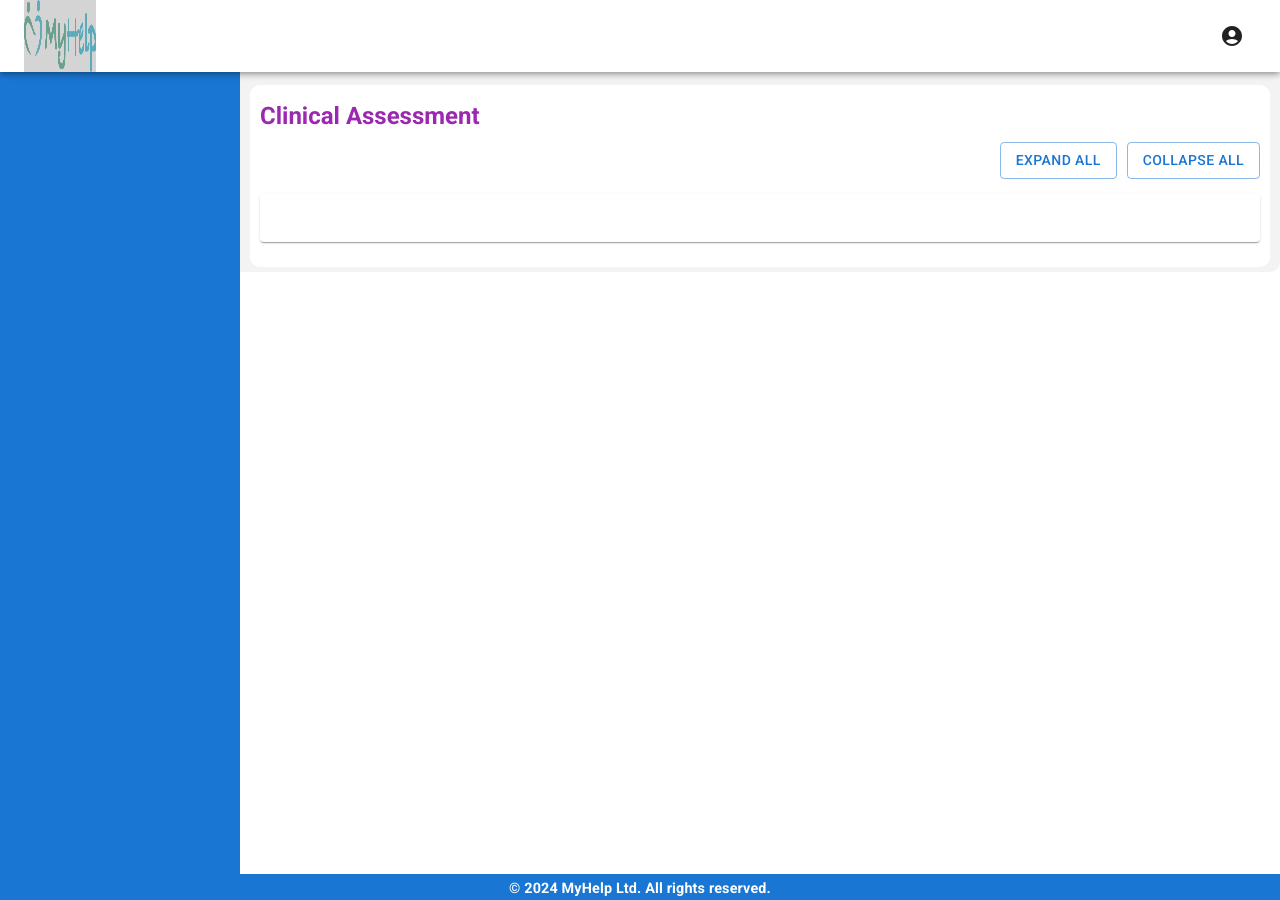
Scenario: Admin edit template page › To check the clint assessment list data and to update assessment question
Expected: the button with test id "collapse_button" is shown, [1127,142,1260,178]
Expected: the element with test id "accordian_test_0" is shown, [260,194,1260,242]
Click the button with test id "expand_button" at {"x": 1058, "y": 160}, box [1000,142,1117,178]
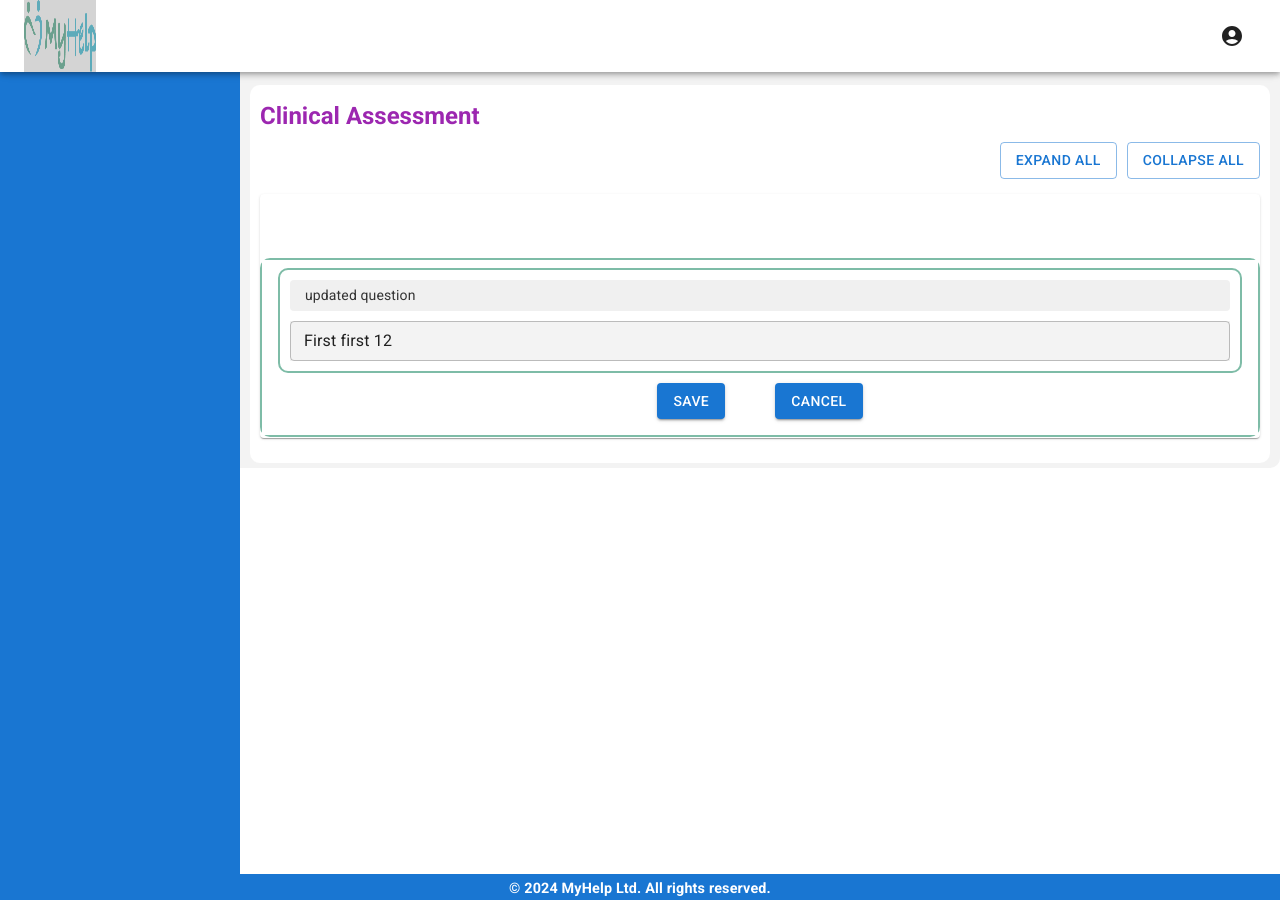
Result: the button with test id "submitFeedback1" is shown at [657,382,725,419]
Result: the field with test id "resource_name" is shown
Result: the field with test id "resource_name" holds "First first 12"
Replace the text in the field with test id "resource_name" with "Change answer" at {"x": 760, "y": 340}, box [290,320,1230,360]
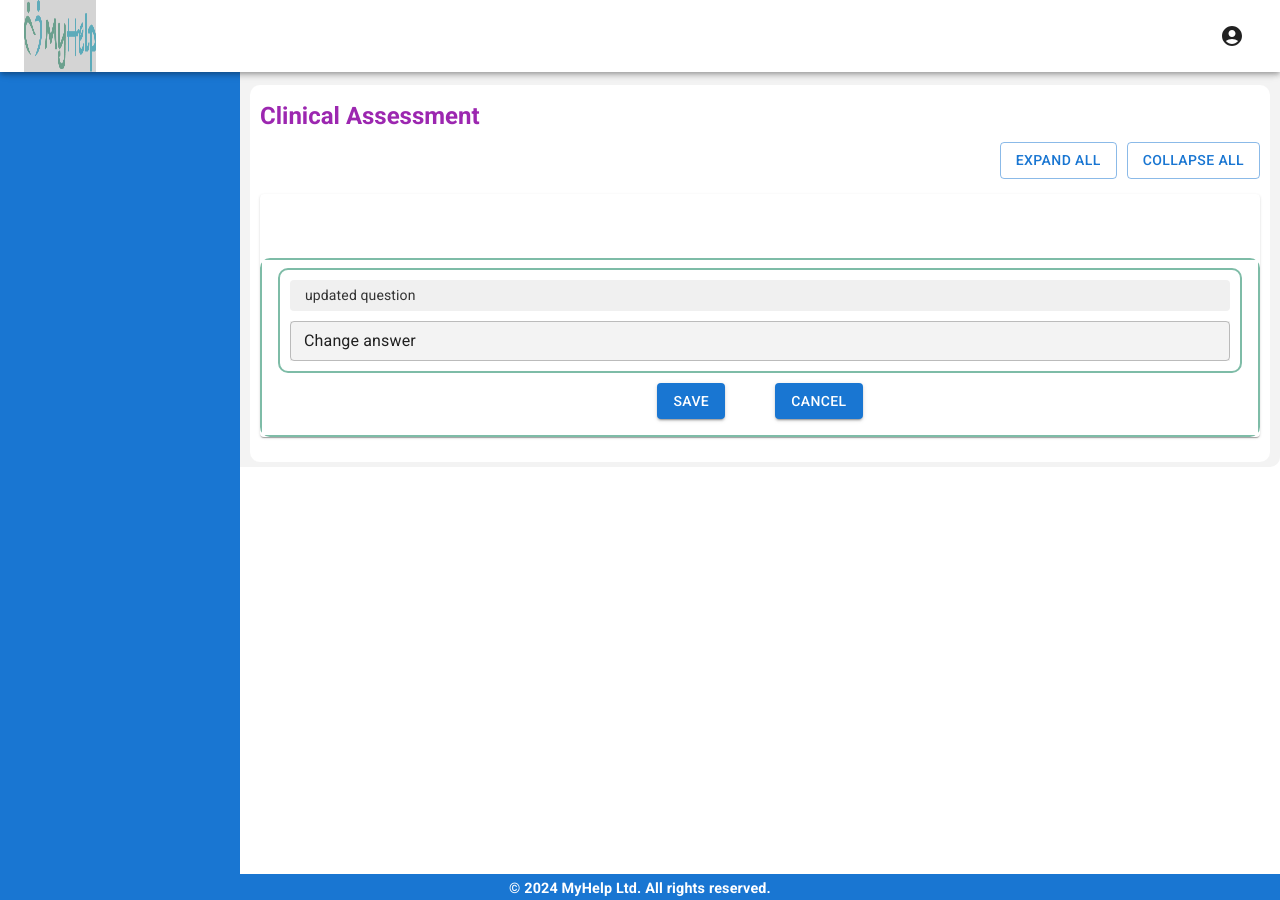
Click the button with test id "submitFeedback1" at {"x": 691, "y": 401}, box [657,382,725,419]
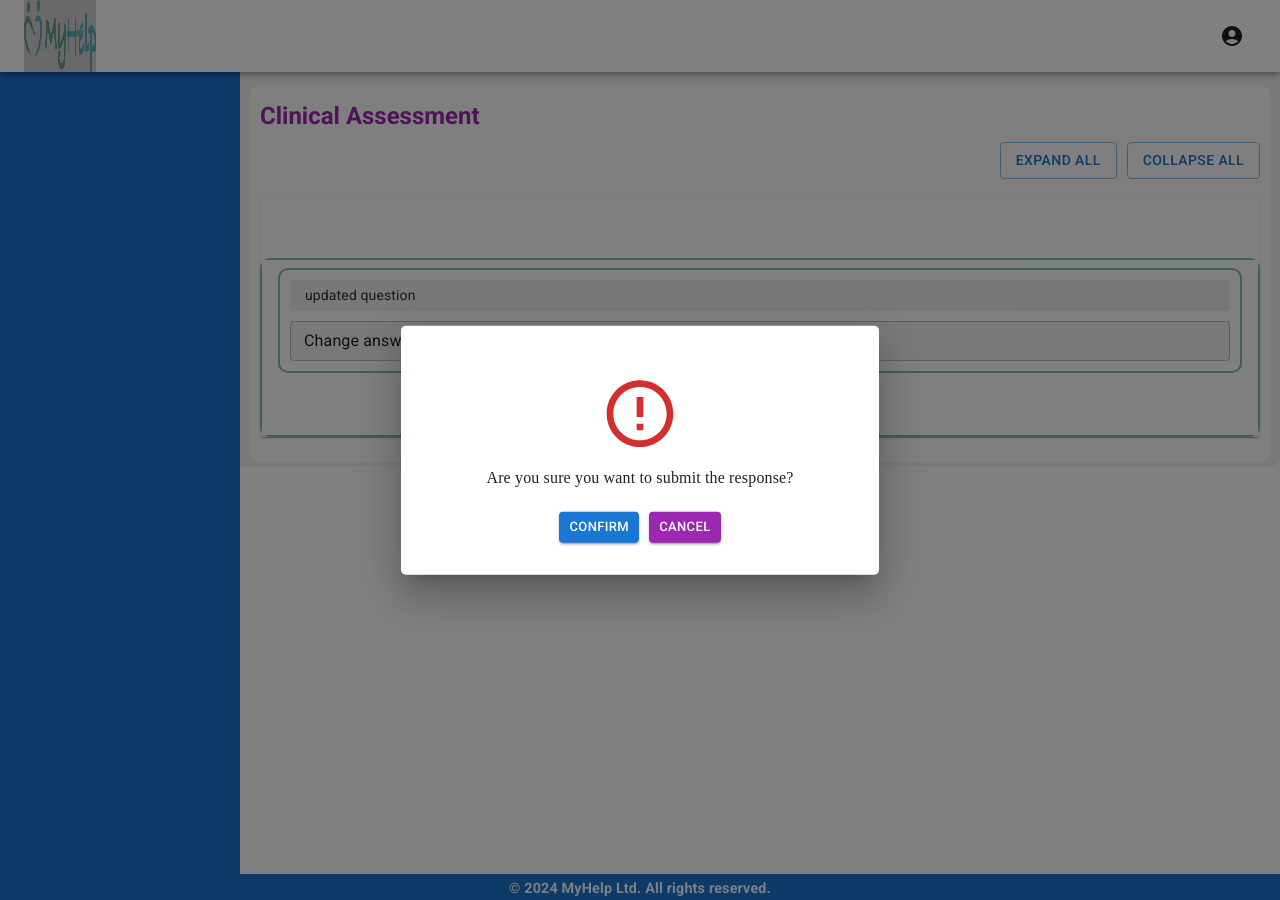
Result: the button with test id "confirmButton" is shown
Click the button with test id "confirmButton" at {"x": 599, "y": 527}, box [560,512,639,542]
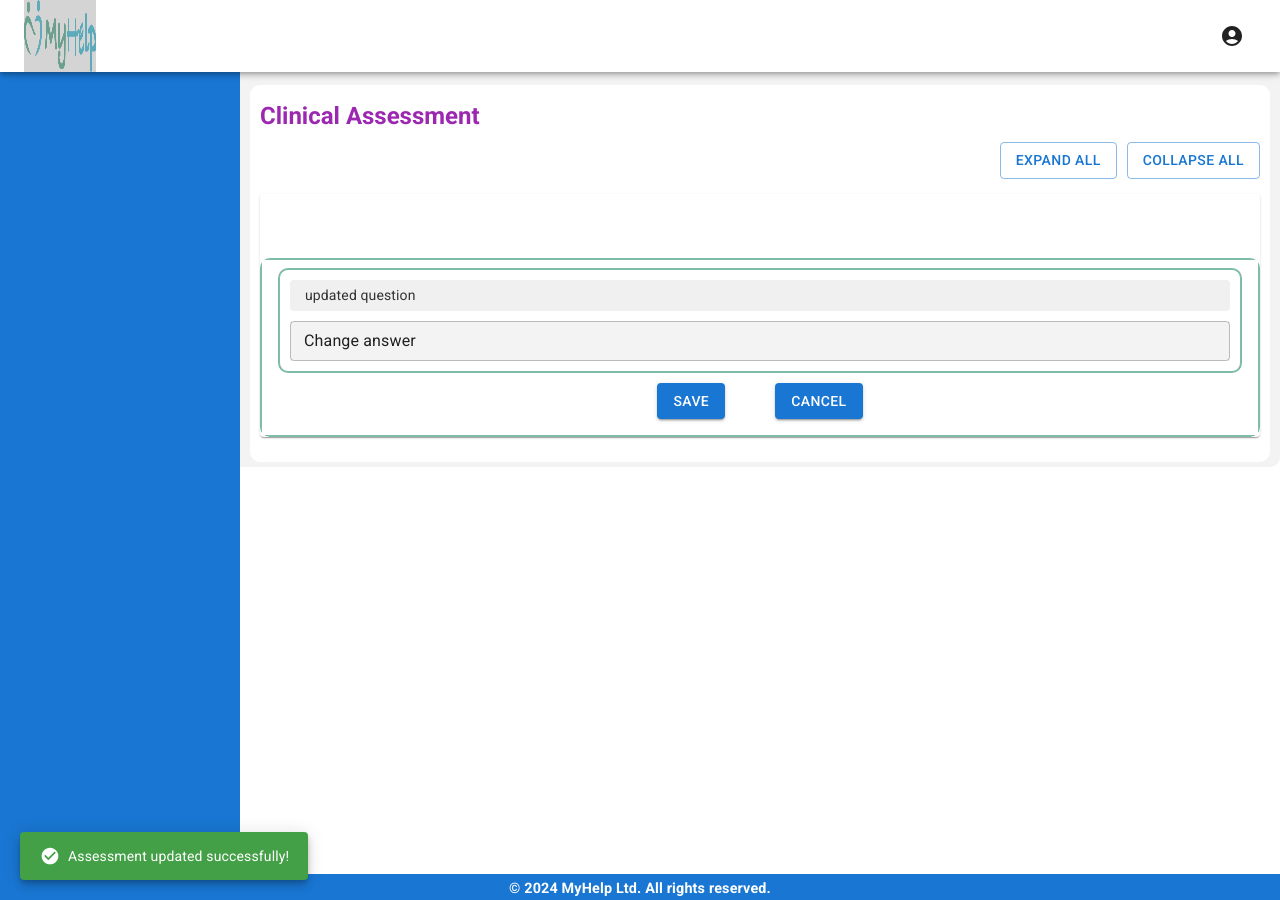
Result: the text "Assessment updated successfully!" is shown at [40,846,289,866]
